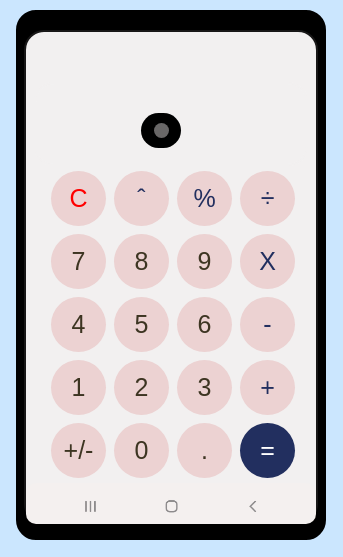
Deve aparecer o numero no display quando eu clicar na tecla numérica.
Click the button "2".
click(142, 388)  # box [114,360,169,415]
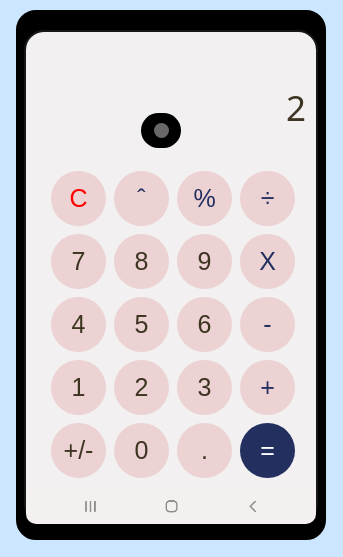
Click the button "+".
click(268, 388)  # box [240,360,295,415]
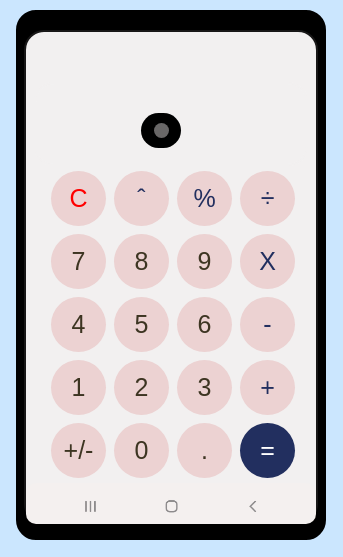
Click the button "3".
click(204, 388)  # box [177,360,232,415]
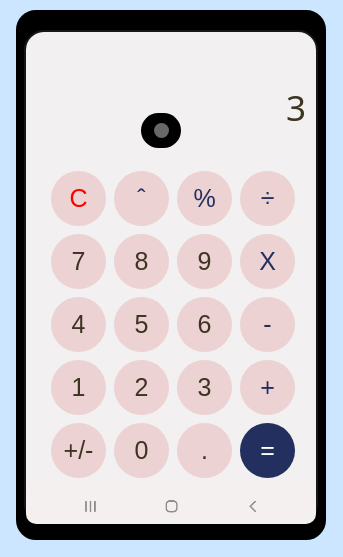
Click the button "=".
click(268, 450)  # box [240,423,295,478]
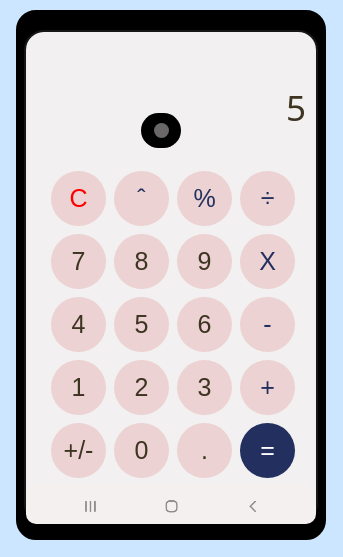
Result: the text with test id "display" reads "5" at [286,84,306,131]
